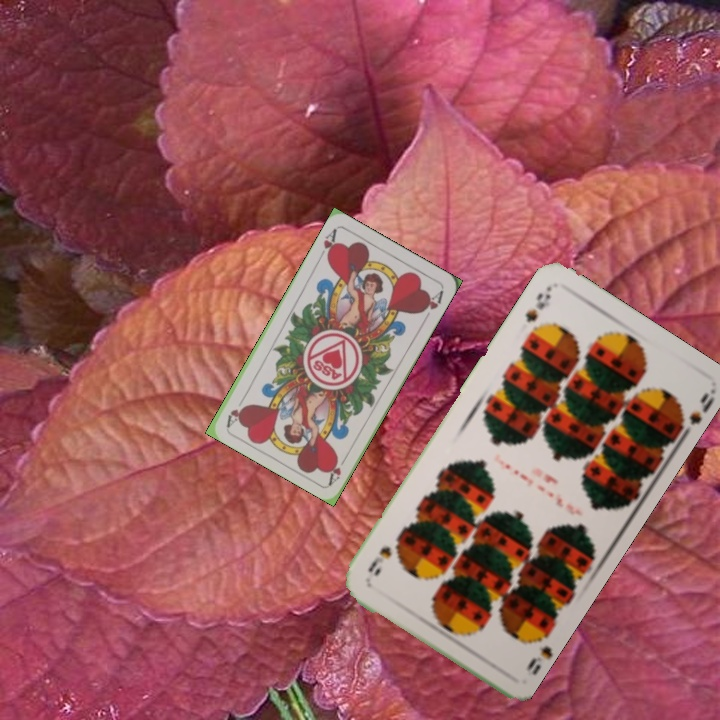HA: (314, 225, 340, 263), (325, 449, 351, 487)
S9: (522, 623, 553, 677), (521, 283, 554, 326)
